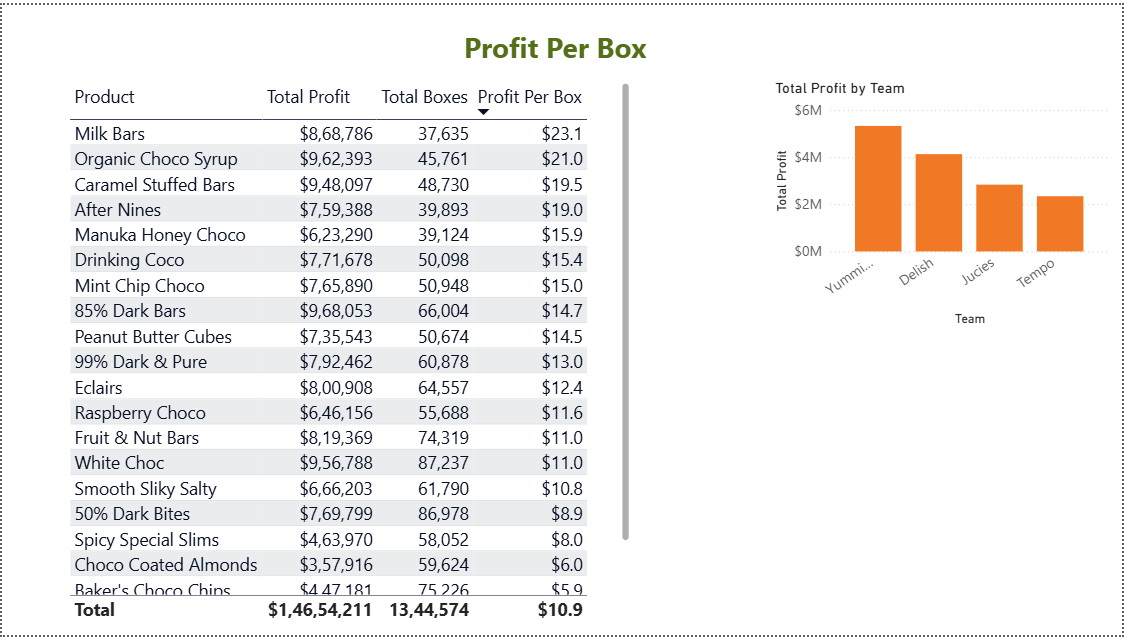

The dashboard page shown, as its layout file describes it:
{"tool":"powerbi","page":{"name":"Profit per Box","canvas":[1280,720],"ordinal":5},"visuals":[{"type":"tableEx","fields":{"Values":["actuals.Product","actuals.Total Profit","actuals.Total Boxes","actuals.Profit Per Box"]},"box":[70.9,84.4,650.5,623.6],"z":0},{"type":"clusteredColumnChart","fields":{"Category":["actuals.Team"],"Y":["actuals.Total Profit"]},"box":[878,84.4,392.5,287.4],"z":1000},{"type":"textbox","box":[522.1,20.8,398.6,63.6],"z":2000}]}

Visuals, with their boxes in screenshot pixels (x1, y1, x2, y2), scaled from the page's 1280x720 canvas onto the 1130x643 screenshot:
tableEx - actuals.Product x actuals.Total Profit: <box>63,75,637,632</box>
clusteredColumnChart - actuals.Team x actuals.Total Profit: <box>775,75,1122,332</box>
textbox: <box>461,19,813,75</box>
